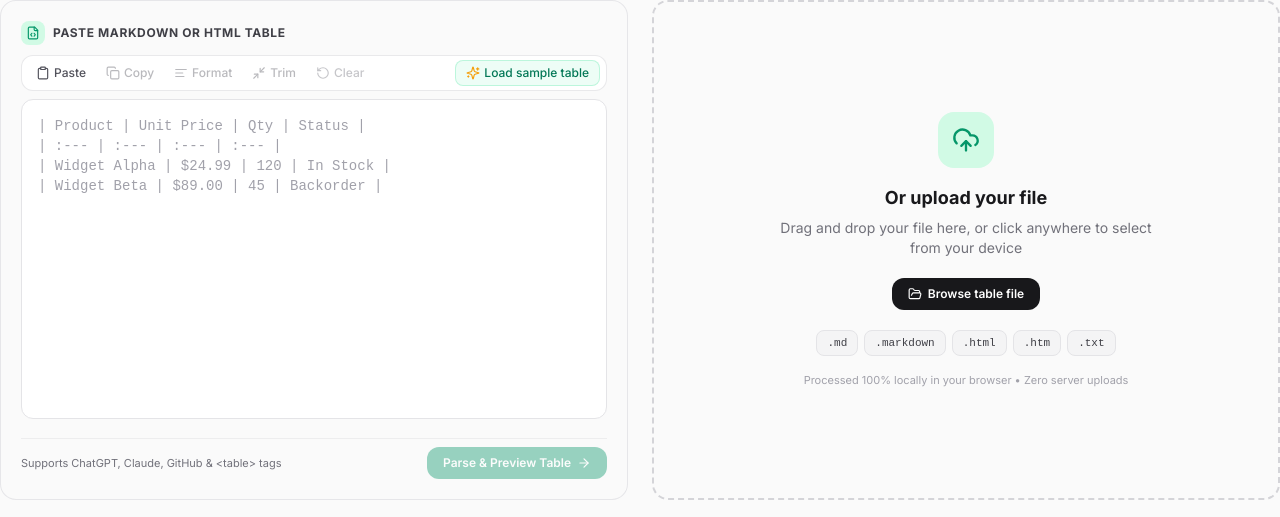
Test: SplitTableInput › allows clearing text after typing or loading sample
Click the button "Load sample table": coordinates (528, 73) [455,60,600,86]
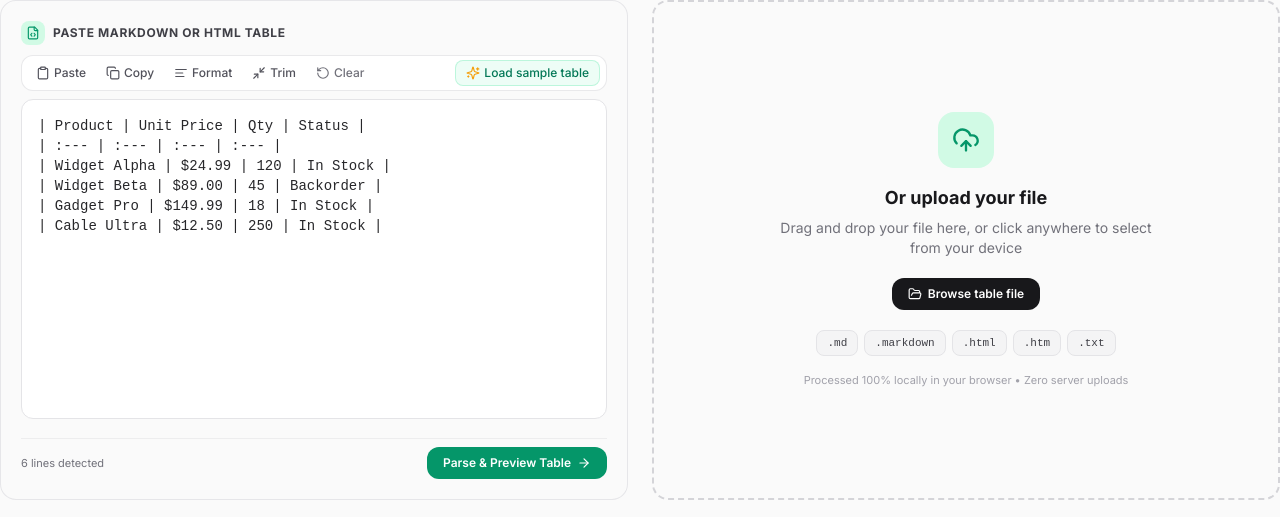
Click the button "Clear": coordinates (340, 73) [308,61,372,85]
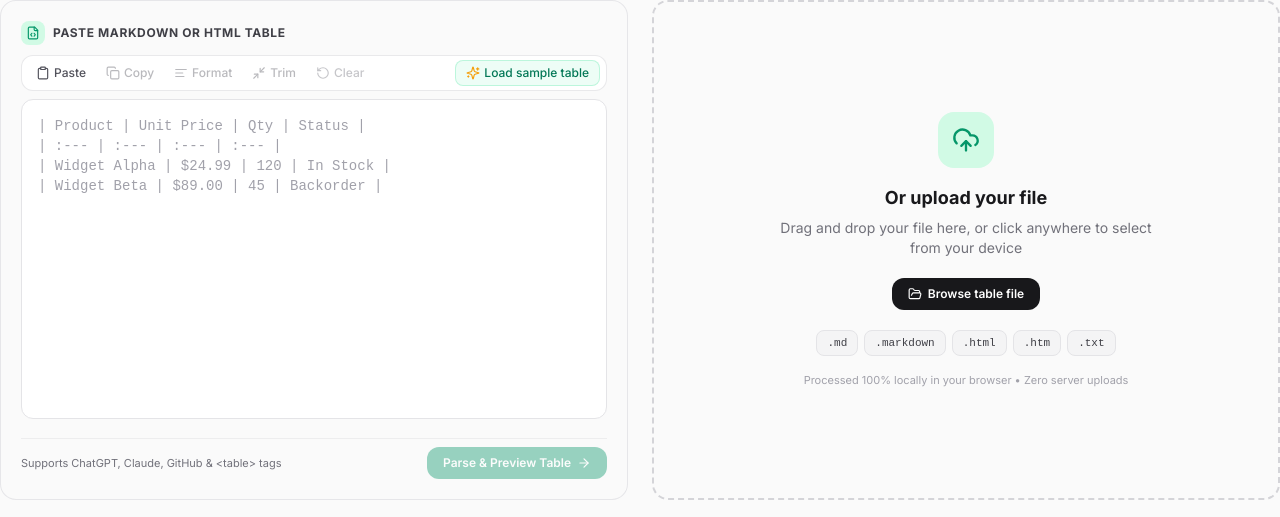
Check: the text box named "Paste table text" is empty, box [21,99,607,419]
